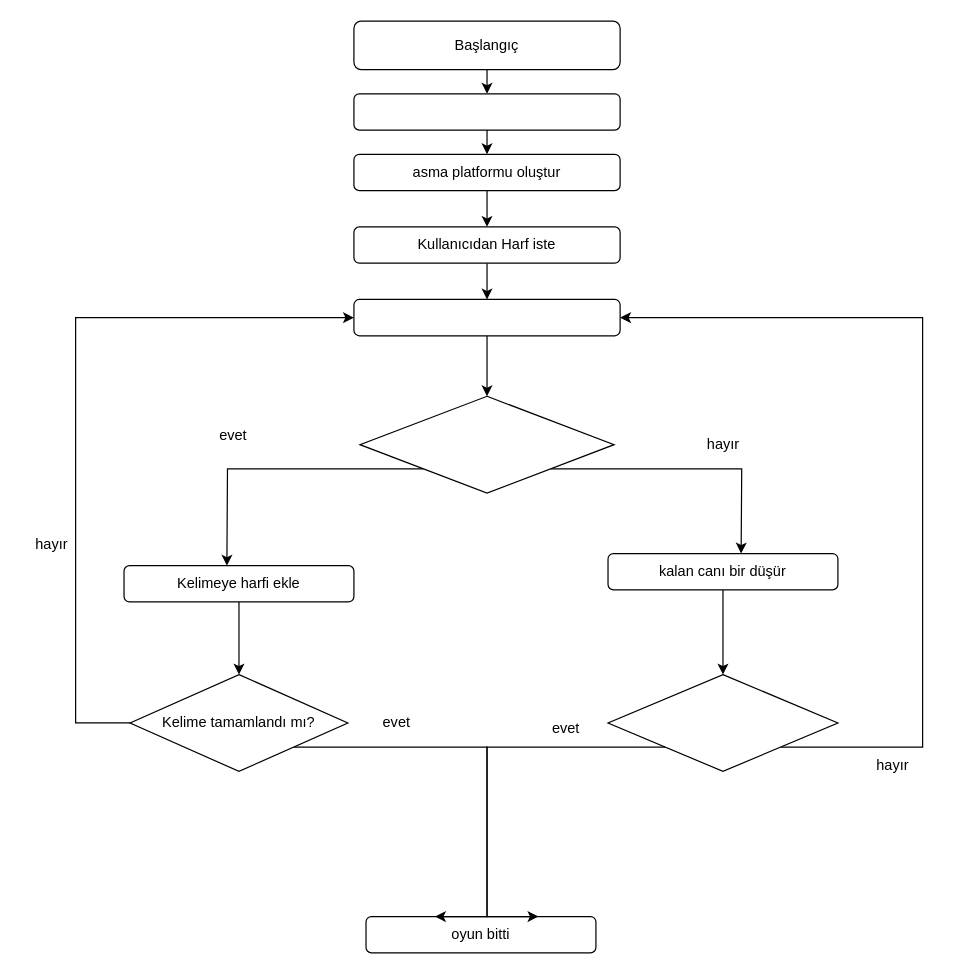
The diagram is 953 pixels wide and 974 high, and some of its shapes have lost their labels. Each missing label, with the box of its shape:
girilen harf kelimede mi?: (359, 395, 614, 493)
Kalan hak bitti mi?: (607, 673, 838, 771)
kelime oluştur: (353, 93, 620, 130)
kullanıcının girdiği harf: (353, 298, 620, 336)
